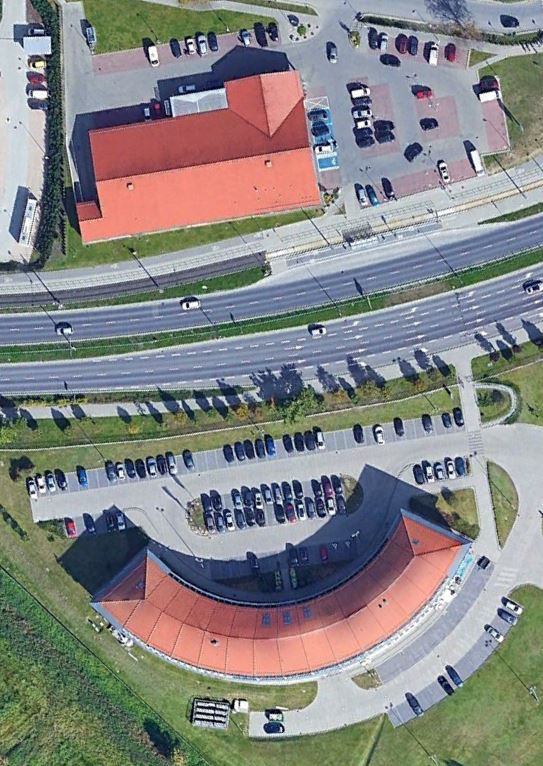shopping_center: (81, 505, 474, 687), (70, 61, 324, 247)
